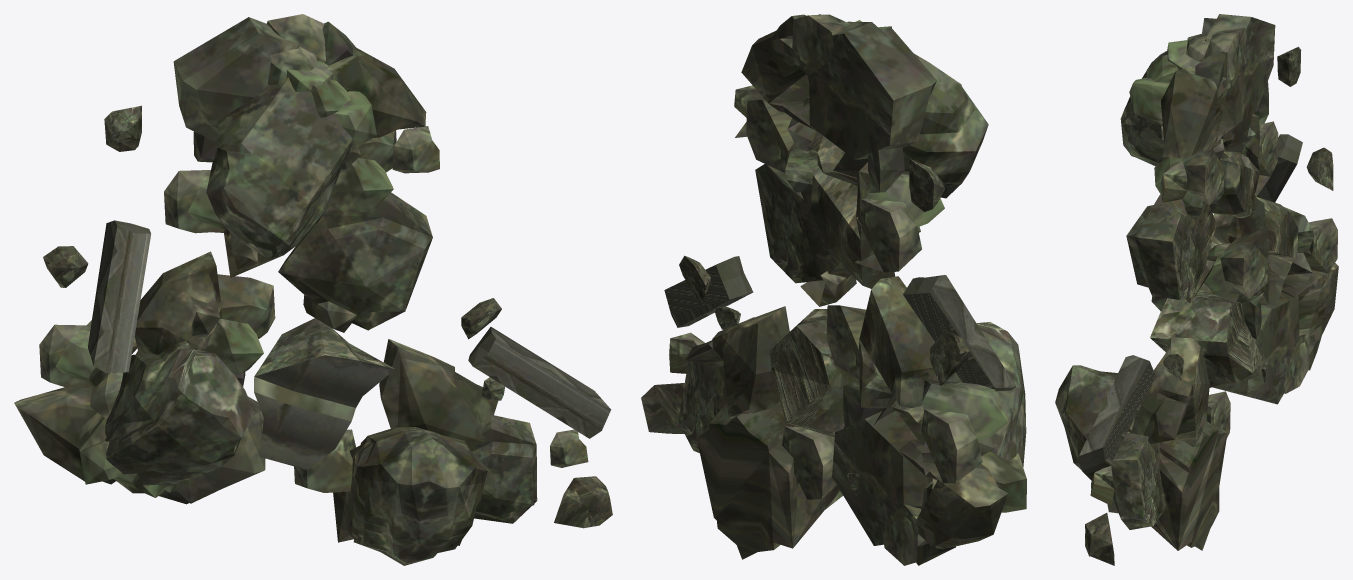
Rendered from lostatlantis_men_05.obj.
3 renders of one model, left to right at view 1: azimuth 30°, elevation 25°; view 2: azimuth 150°, elevation 25°; view 3: azimuth 270°, elevation 25°, orthographic. The views are drawn at different scales.
Visible parts, largest first — view 1: LostAtla41, LostAtla12, LostAtla40, LostAtla20, LostAtla52, LostAtla26, LostAtla17, LostAtla50, LostAtla48, LostAtla11, LostAtla49, LostAtla10 (+30 smaller); view 2: LostAtla26, LostAtla51, LostAtlant, LostAtla41, LostAtla11, LostAtla20, LostAtla17, LostAtla10, LostAtla40, LostAtla50, LostAtla53, LostAtla39 (+25 smaller); view 3: LostAtla40, LostAtla20, LostAtla17, LostAtla38, LostAtla49, LostAtla48, LostAtla51, LostAtlant, LostAtla26, LostAtla52, LostAtla11, LostAtla53 (+31 smaller).
Part boxes in pixels (x1,y1,x2,y2): LostAtla41: [206, 77, 352, 258]; LostAtla12: [105, 341, 254, 488]; LostAtla40: [278, 192, 432, 330]; LostAtla20: [254, 318, 395, 469]; LostAtla52: [354, 427, 487, 531]; LostAtla26: [173, 17, 299, 142]; LostAtla17: [379, 339, 498, 447]; LostAtla50: [88, 220, 150, 373]; LostAtla48: [468, 327, 611, 438]; LostAtla11: [134, 251, 221, 354]; LostAtla49: [469, 415, 537, 523]; LostAtla10: [14, 387, 97, 481]; LostAtla26: [809, 21, 936, 159]; LostAtla51: [696, 430, 842, 559]; LostAtlant: [832, 410, 928, 545]; LostAtla41: [809, 53, 988, 198]; LostAtla11: [858, 276, 948, 408]; LostAtla20: [770, 309, 859, 437]; LostAtla17: [686, 306, 789, 418]; LostAtla10: [898, 438, 1007, 549]; LostAtla40: [755, 164, 851, 283]; LostAtla50: [903, 275, 1016, 391]; LostAtla53: [702, 401, 834, 493]; LostAtla39: [810, 162, 895, 288]; LostAtla40: [1126, 194, 1216, 299]; LostAtla20: [1150, 290, 1261, 387]; LostAtla17: [1131, 337, 1209, 446]; LostAtla38: [1161, 67, 1237, 157]; LostAtla49: [1101, 432, 1165, 529]; LostAtla48: [1078, 355, 1155, 473]; LostAtla51: [1070, 450, 1224, 550]; LostAtlant: [1212, 291, 1299, 404]; LostAtla26: [1202, 14, 1275, 125]; LostAtla52: [1055, 365, 1134, 454]; LostAtla11: [1227, 196, 1298, 304]; LostAtla53: [1159, 420, 1227, 484].
Size of the model in its own units: 964 by 1095 by 586.
3 materials, 3 textured.
